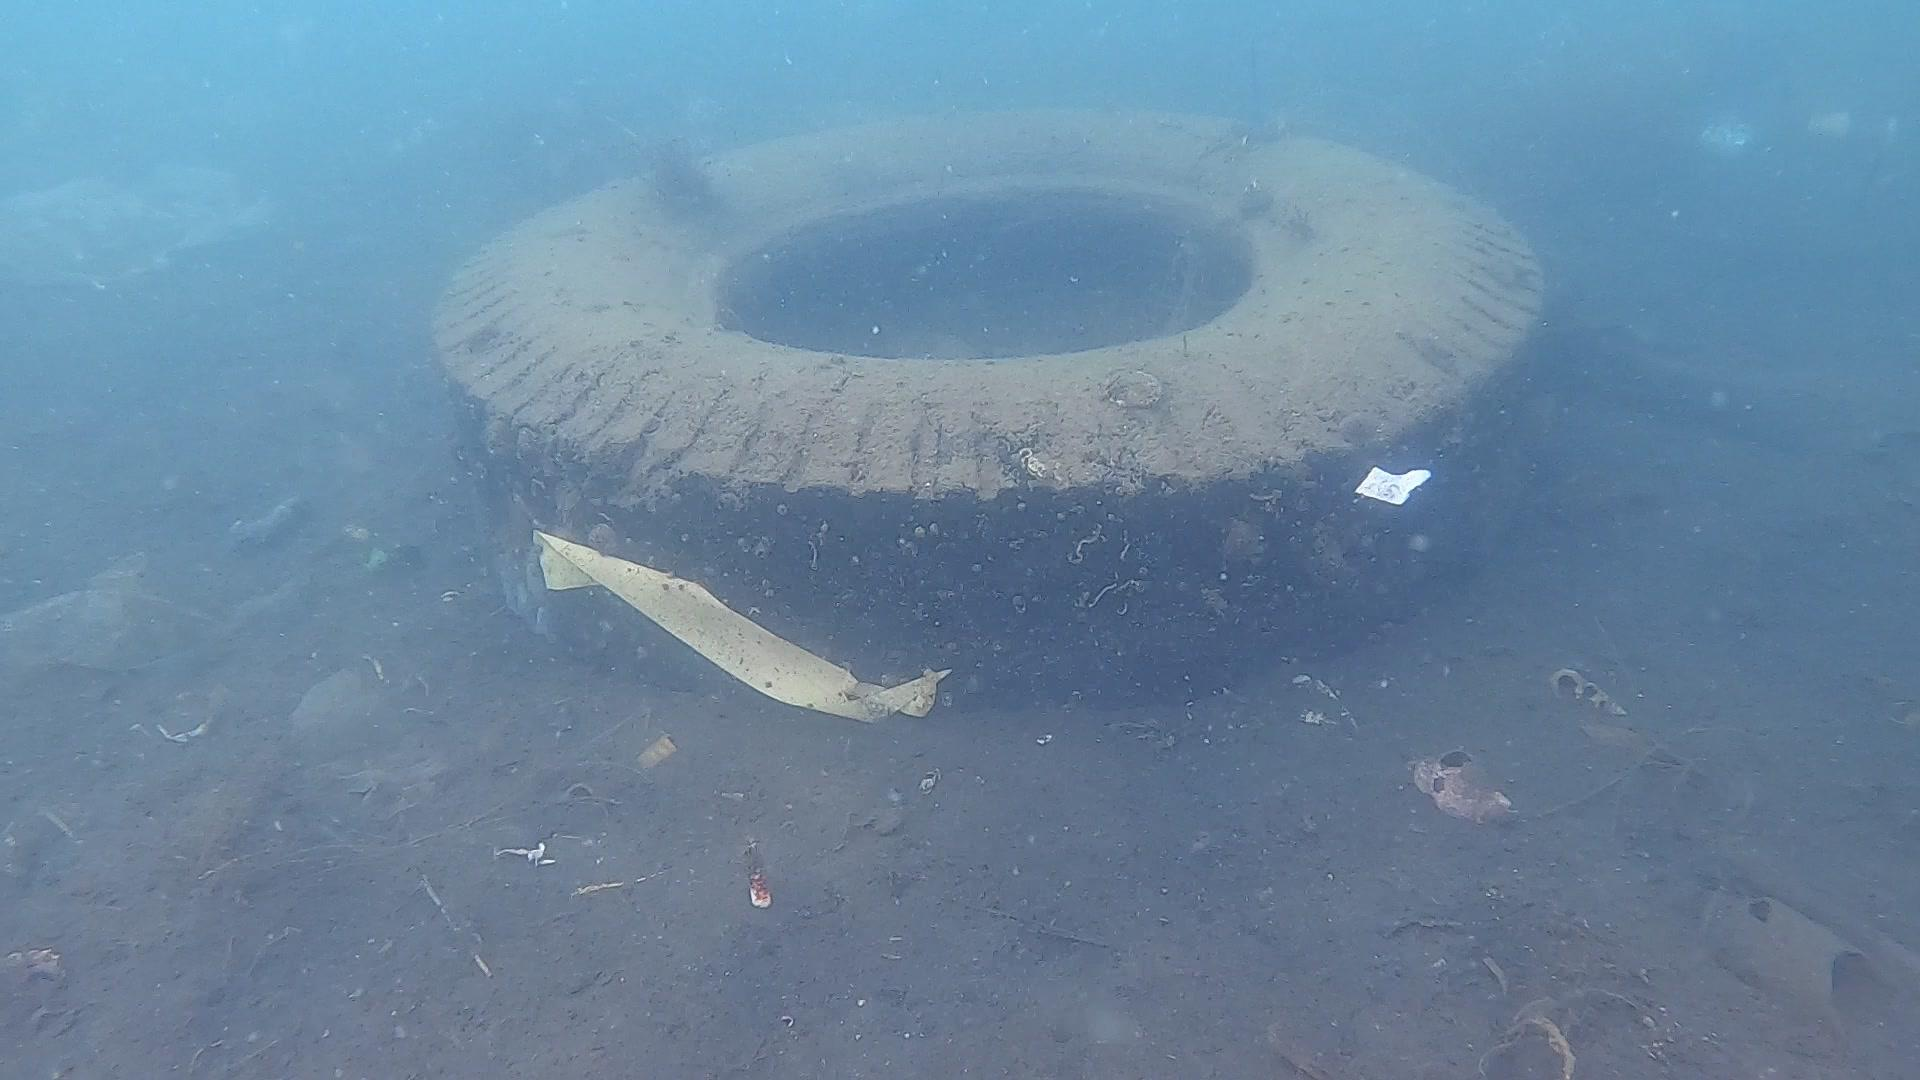tire: (431, 102, 1555, 703)
